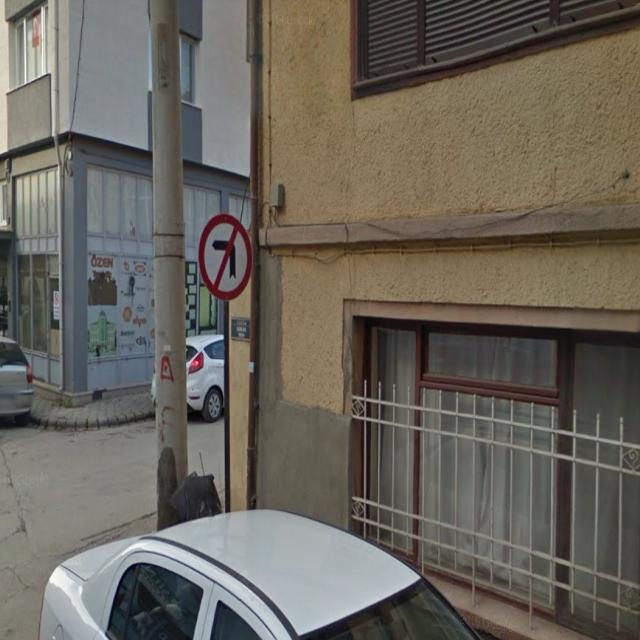soladonulmez: (199, 212, 253, 300)
